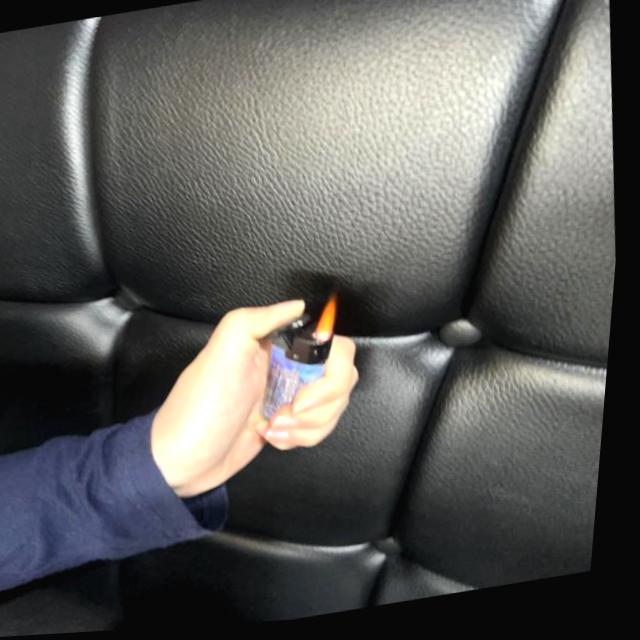Fire: (313, 296, 346, 349)
